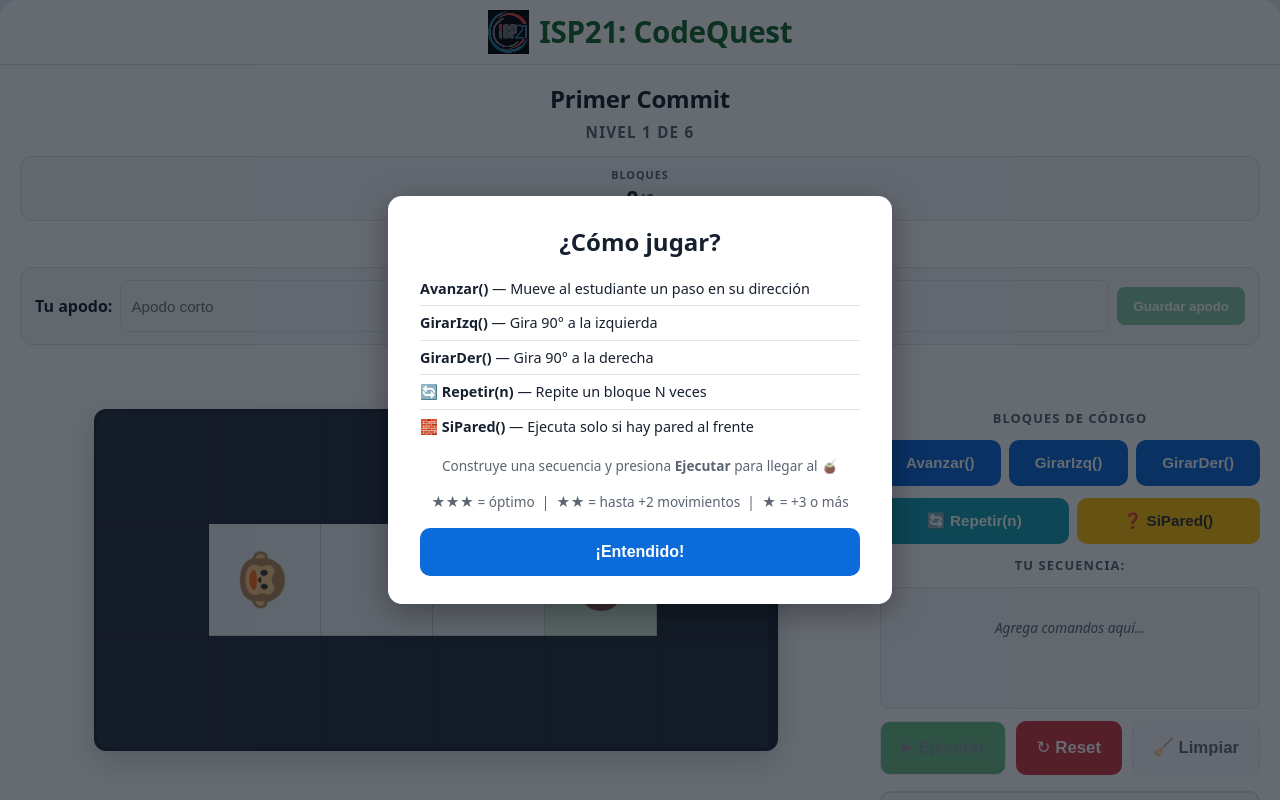
Test: App › abre selector de niveles con los 6 niveles
Step 1. Click the button "¡Entendido!" → (640, 552), box [420,528,860,576]
(page scrolled)
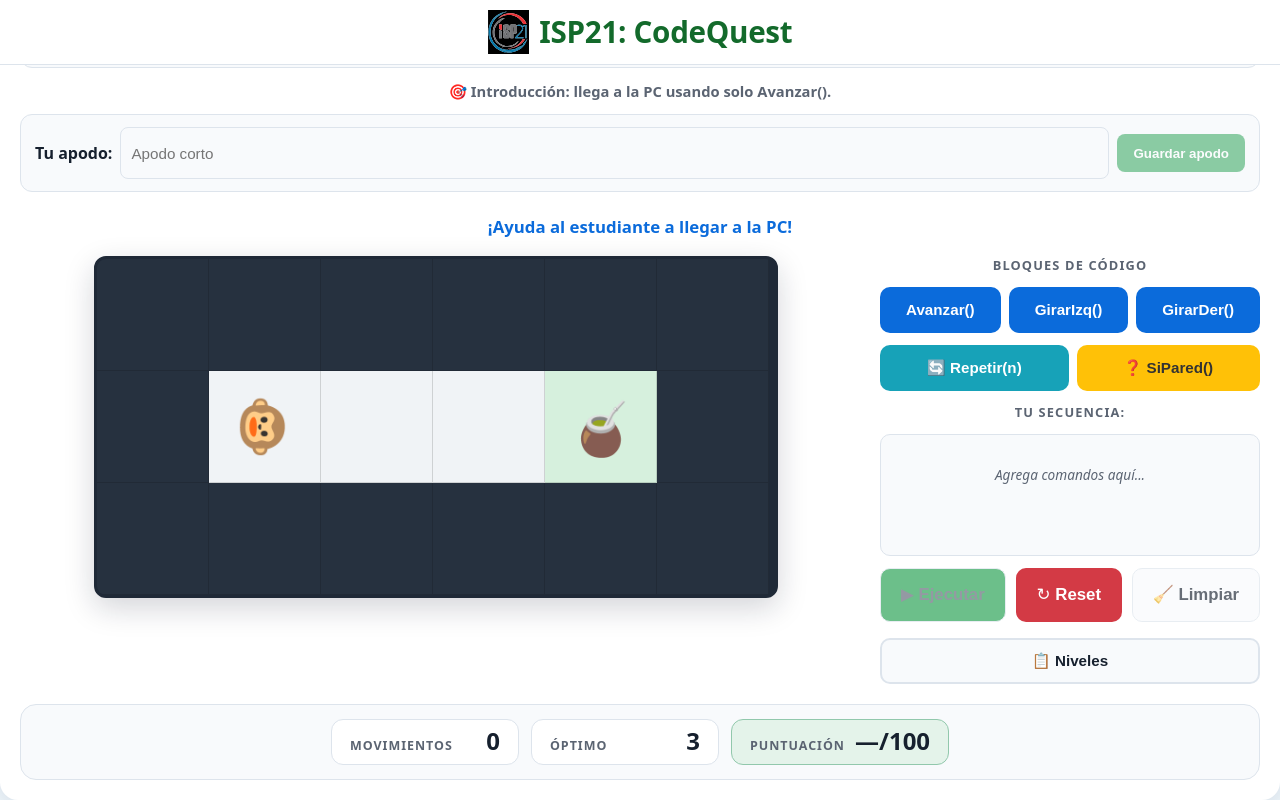
Step 2. Click the button "📋 Niveles" → (1070, 661), box [880,638,1260,684]
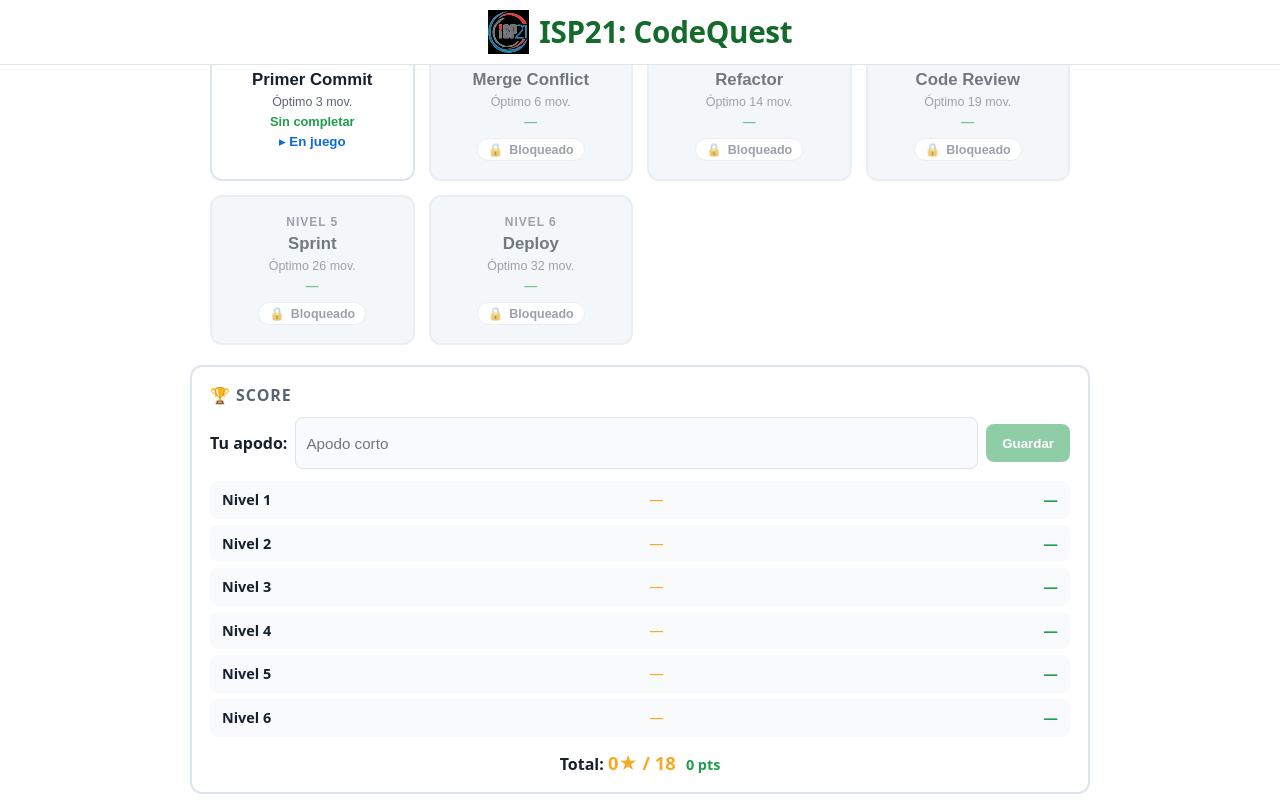
expect the 1st text "Nivel 1" is shown: met, box [286,51,338,65]
expect the 1st text "Nivel 6" is shown: met, box [505,215,557,229]
